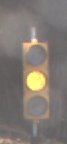Yellow: (18, 30, 54, 128)
